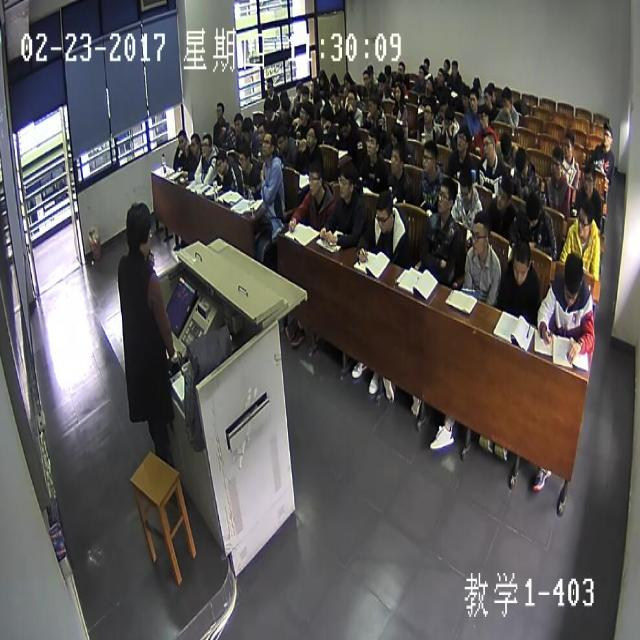person: (122, 199, 154, 261), (560, 253, 584, 311), (509, 236, 532, 288), (470, 208, 490, 254), (375, 188, 394, 234), (336, 157, 356, 200), (522, 188, 542, 230), (577, 198, 596, 242), (305, 157, 323, 197), (436, 176, 455, 213), (494, 172, 510, 209), (458, 164, 472, 205), (580, 158, 595, 196), (420, 141, 437, 174), (390, 142, 405, 178), (514, 144, 528, 182), (550, 144, 564, 177), (260, 128, 276, 156), (364, 125, 378, 156), (560, 130, 574, 160), (237, 141, 251, 170), (336, 114, 352, 139), (199, 129, 213, 157), (304, 123, 319, 148), (454, 125, 468, 151), (498, 132, 512, 158), (188, 127, 200, 157), (482, 132, 495, 159), (175, 128, 188, 154), (366, 91, 379, 116), (500, 84, 512, 111), (602, 120, 613, 149), (214, 149, 227, 173), (276, 127, 288, 153), (241, 115, 253, 140), (344, 90, 357, 112), (422, 101, 433, 127), (262, 96, 274, 119), (443, 107, 454, 132), (459, 83, 470, 108), (212, 120, 225, 141), (256, 122, 268, 144), (318, 112, 330, 134), (390, 124, 402, 146), (467, 87, 478, 111), (280, 94, 291, 116), (478, 106, 488, 130), (298, 104, 309, 124), (482, 84, 491, 108), (264, 74, 274, 95), (311, 89, 321, 110), (392, 82, 403, 101), (395, 59, 405, 78), (486, 80, 496, 99), (382, 61, 391, 82), (233, 110, 241, 133), (215, 99, 224, 119), (328, 72, 338, 90), (342, 72, 352, 90), (438, 97, 447, 117), (365, 60, 373, 82), (329, 88, 338, 107), (360, 68, 369, 87), (471, 73, 480, 92), (300, 84, 309, 102), (292, 79, 301, 97), (423, 75, 432, 93), (449, 57, 458, 75), (420, 56, 430, 72), (376, 71, 384, 90), (318, 68, 326, 86), (393, 70, 402, 86), (416, 62, 424, 80), (435, 67, 444, 83), (441, 56, 449, 70), (310, 75, 316, 90)
